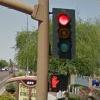Traffic light: (47, 4, 89, 64)
